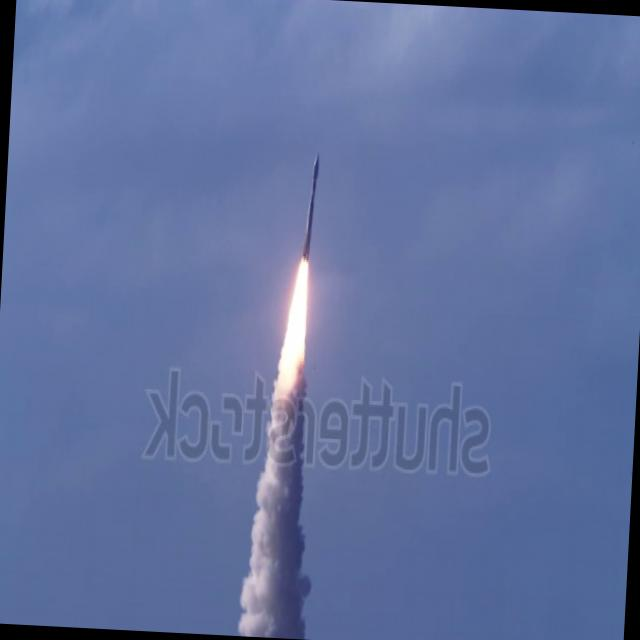rocket: (274, 151, 326, 493)
